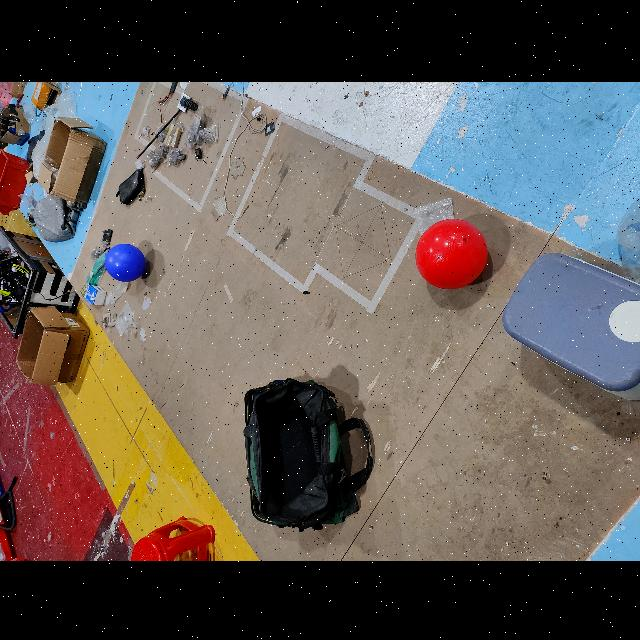B: (104, 242, 146, 280)
R: (412, 217, 488, 289)
